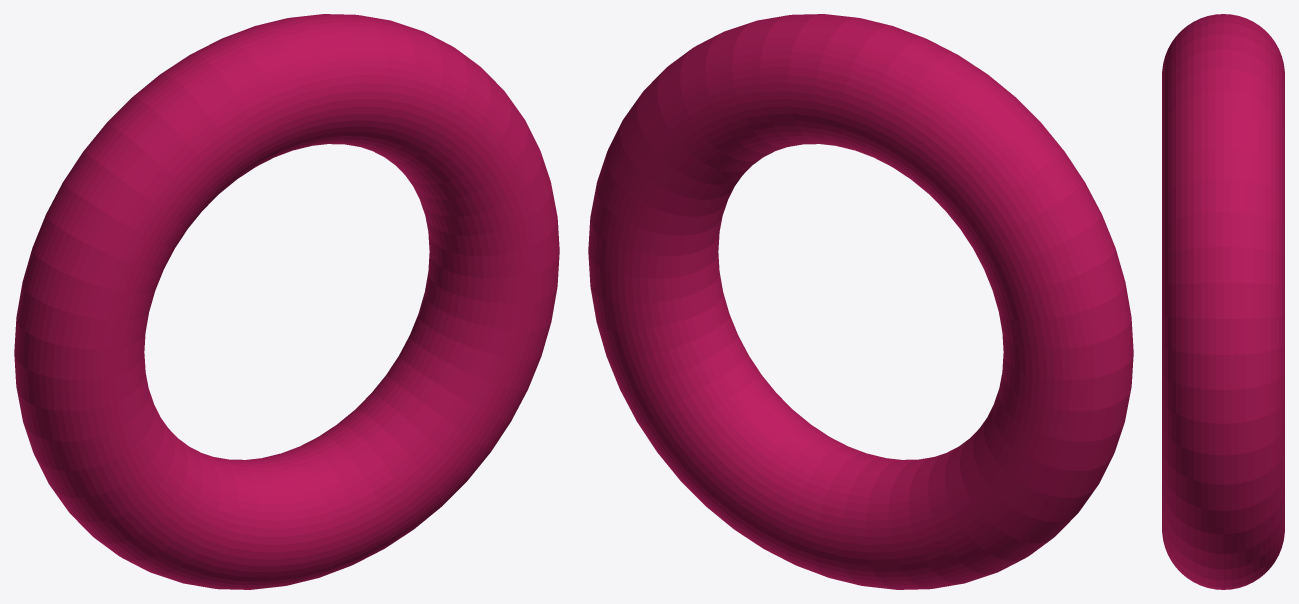
3 renders of one model, left to right at view 1: azimuth 30°, elevation 25°; view 2: azimuth 150°, elevation 25°; view 3: azimuth 270°, elevation 25°, orthographic. The views are drawn at different scales.
Visible parts, largest first — view 1: world; view 2: world; view 3: world.
Part boxes in pixels (left/top/right/bottom): world: left=14, top=14, right=559, bottom=589; world: left=588, top=14, right=1133, bottom=589; world: left=1162, top=14, right=1284, bottom=589.
Bounding box in the file's own units: 35.6 × 35.53 × 7.59.
